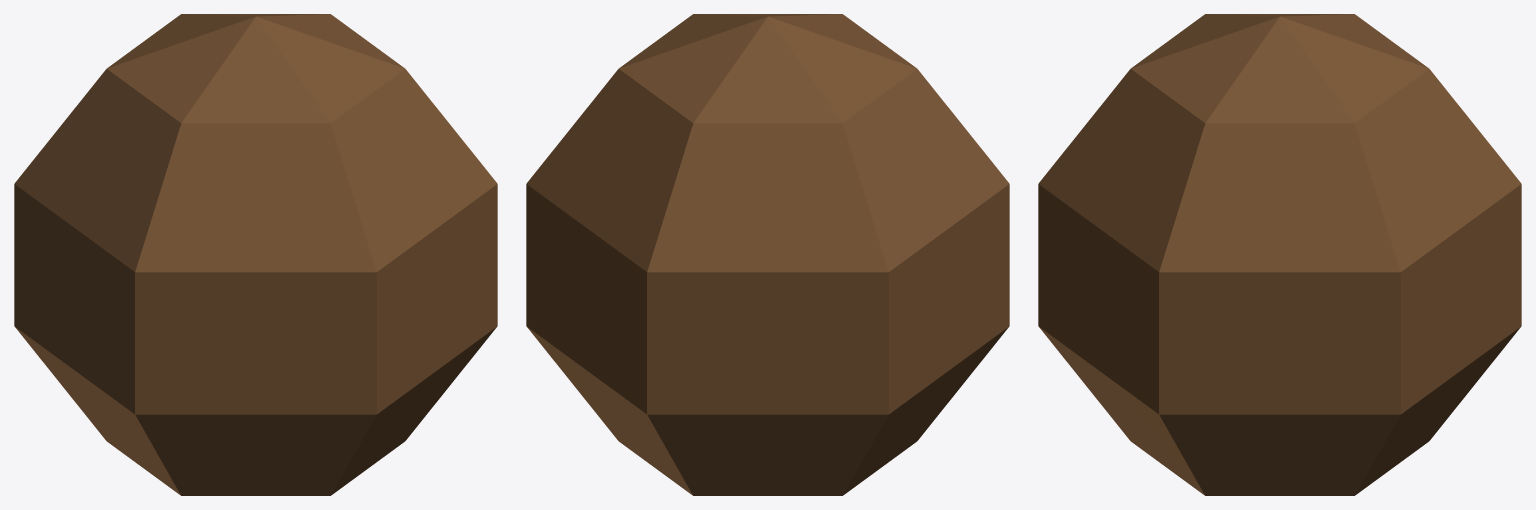
The model's file is Coco_01.glb.
3 views of the same model, side by side, from view 1: azimuth 30°, elevation 25°; view 2: azimuth 150°, elevation 25°; view 3: azimuth 270°, elevation 25° (orthographic).
Visible parts, largest first — view 1: Coco_01; view 2: Coco_01; view 3: Coco_01.
Part boxes in pixels (box(x1,y1,x2,y2)): Coco_01: box(14, 14, 497, 495); Coco_01: box(526, 14, 1009, 495); Coco_01: box(1038, 14, 1521, 495).
Size of what is drawn, in the model's own units: 0.2829 by 0.3556 by 0.3267.
Materials: 1 (1 with a texture image).
